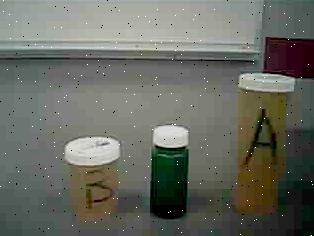Bottle A: (233, 66, 297, 224)
Bottle B: (54, 135, 125, 226)
Bottle C: (145, 122, 196, 222)
